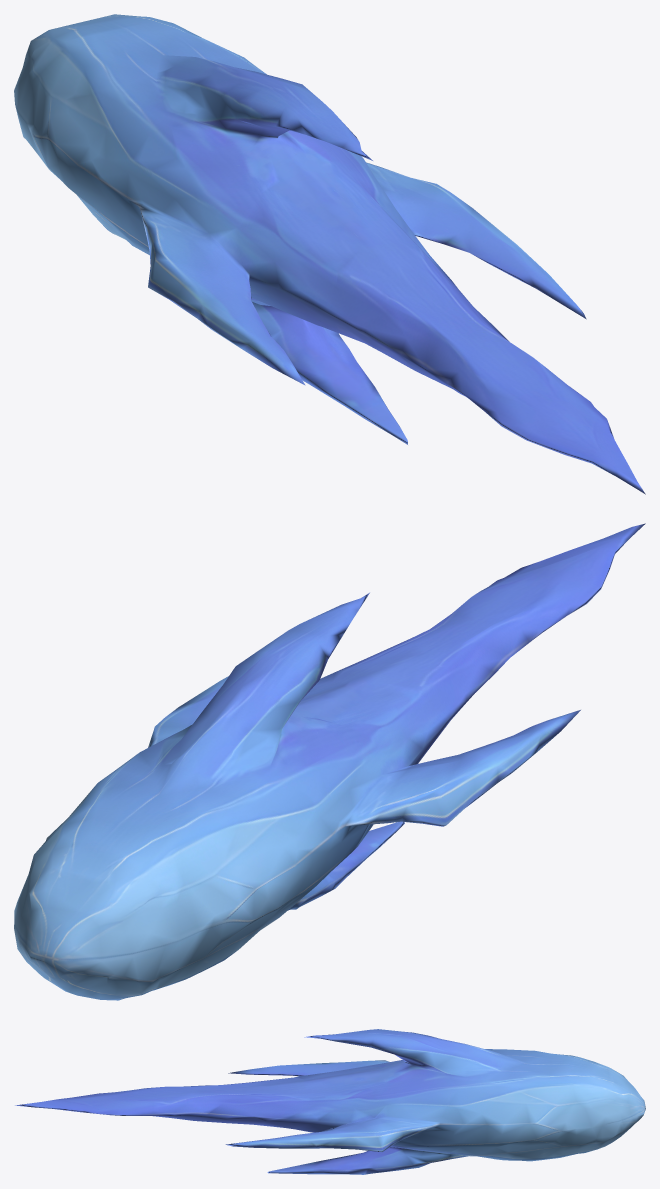
File: fx_bolt.glb
3 views of the same model, one above another, from view 1: azimuth 30°, elevation 25°; view 2: azimuth 150°, elevation 25°; view 3: azimuth 270°, elevation 25° (orthographic). The views are drawn at different scales.
Visible parts, largest first — view 1: tripo_node_1bb8a2e3-af27-4be4-9d86-4588a50713c4; view 2: tripo_node_1bb8a2e3-af27-4be4-9d86-4588a50713c4; view 3: tripo_node_1bb8a2e3-af27-4be4-9d86-4588a50713c4.
Part boxes in pixels (x1,y1,x2,y2): tripo_node_1bb8a2e3-af27-4be4-9d86-4588a50713c4: (14, 14, 645, 494); tripo_node_1bb8a2e3-af27-4be4-9d86-4588a50713c4: (14, 523, 645, 1000); tripo_node_1bb8a2e3-af27-4be4-9d86-4588a50713c4: (15, 1029, 645, 1174).
Bounding box in the file's own units: 0.2943 × 0.2439 × 1.
1 material, 1 textured.
